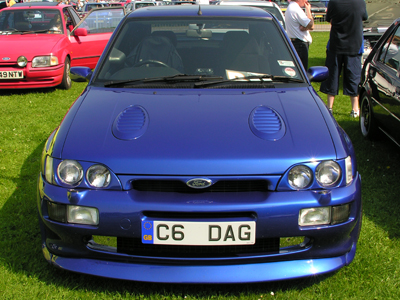licencePlate: (141, 217, 257, 247)
